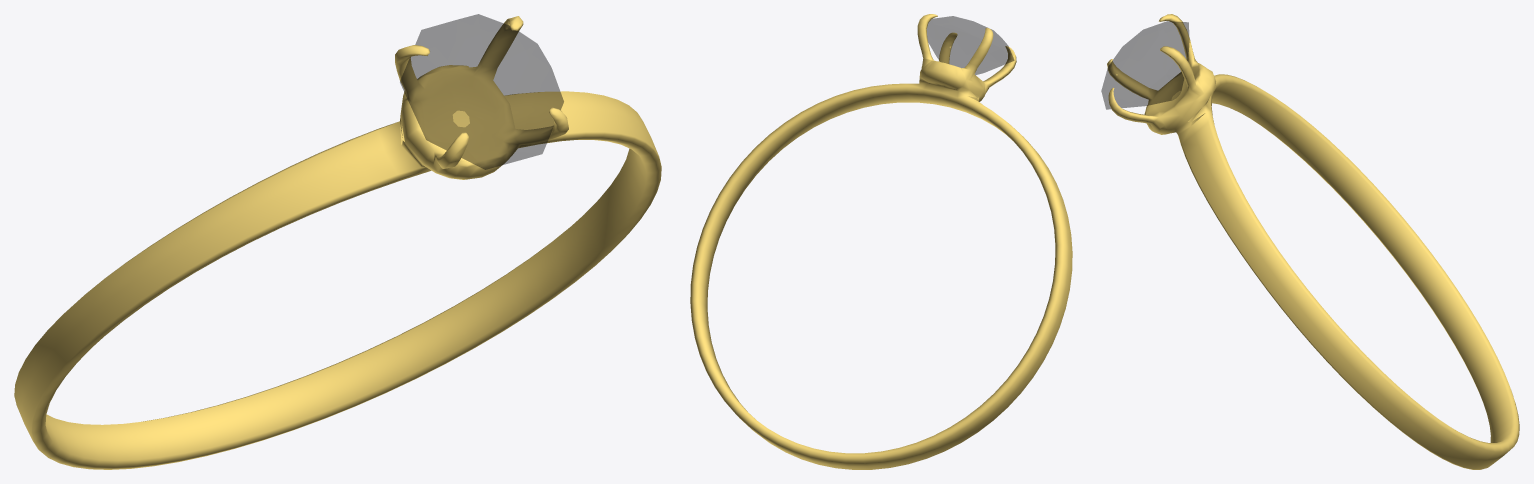
File: ring3.glb
The picture shows the model from 3 angles, left to right: view 1: azimuth 30°, elevation 25°; view 2: azimuth 150°, elevation 25°; view 3: azimuth 270°, elevation 25°; orthographic projection. The views are drawn at different scales.
Visible parts, largest first — view 1: Cylinder, Gem; view 2: Cylinder, Gem; view 3: Cylinder, Gem.
Part boxes in pixels (x1,y1,x2,y2): Cylinder: (14,16,661,469); Gem: (400,14,563,169); Cylinder: (690,14,1072,469); Gem: (927,16,1014,74); Cylinder: (1107,14,1519,469); Gem: (1101,21,1189,109).
Size of the model in its own units: 0.538 by 0.515 by 0.4702.
